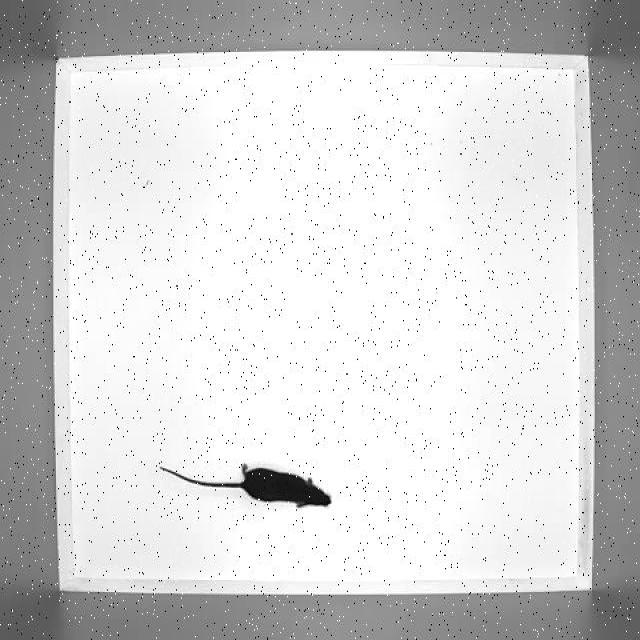rat: (155, 456, 339, 519)
